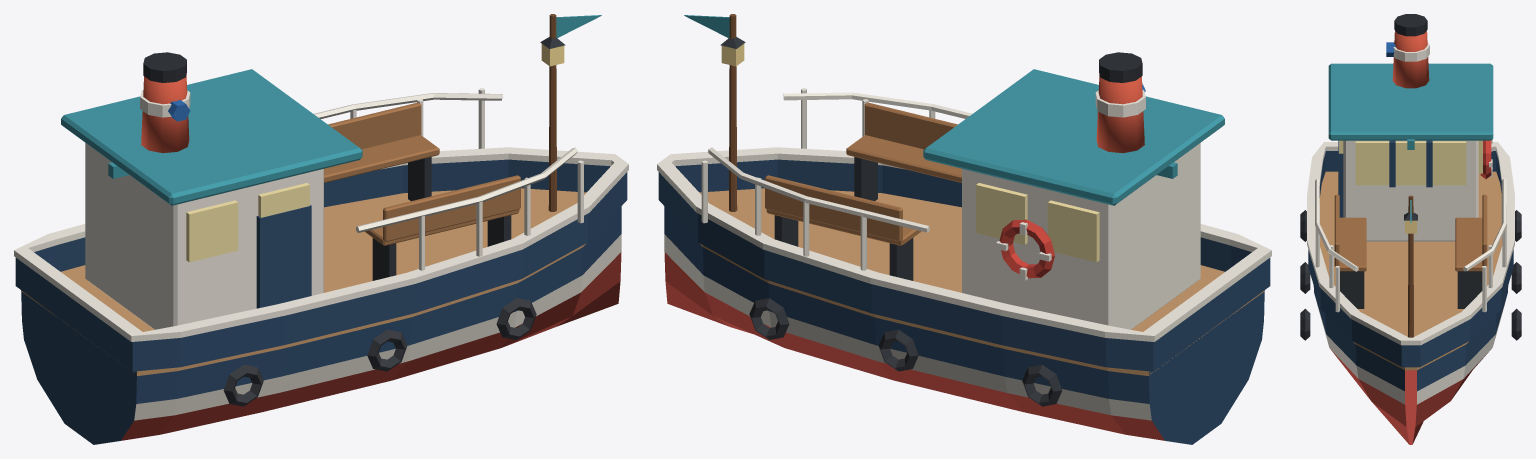
File: ferry.glb
3 renders of one model, left to right at view 1: azimuth 30°, elevation 25°; view 2: azimuth 150°, elevation 25°; view 3: azimuth 270°, elevation 25°, orthographic. The views are drawn at different scales.
Parts seen in each view (by area): view 1: ferry; view 2: ferry; view 3: ferry.
Part boxes in pixels (x1=…): ferry: x1=14, y1=14, x2=628, y2=444; ferry: x1=657, y1=14, x2=1271, y2=444; ferry: x1=1300, y1=14, x2=1521, y2=444.
Bounding box in the file's own units: 3.83 × 2.34 × 1.8.
